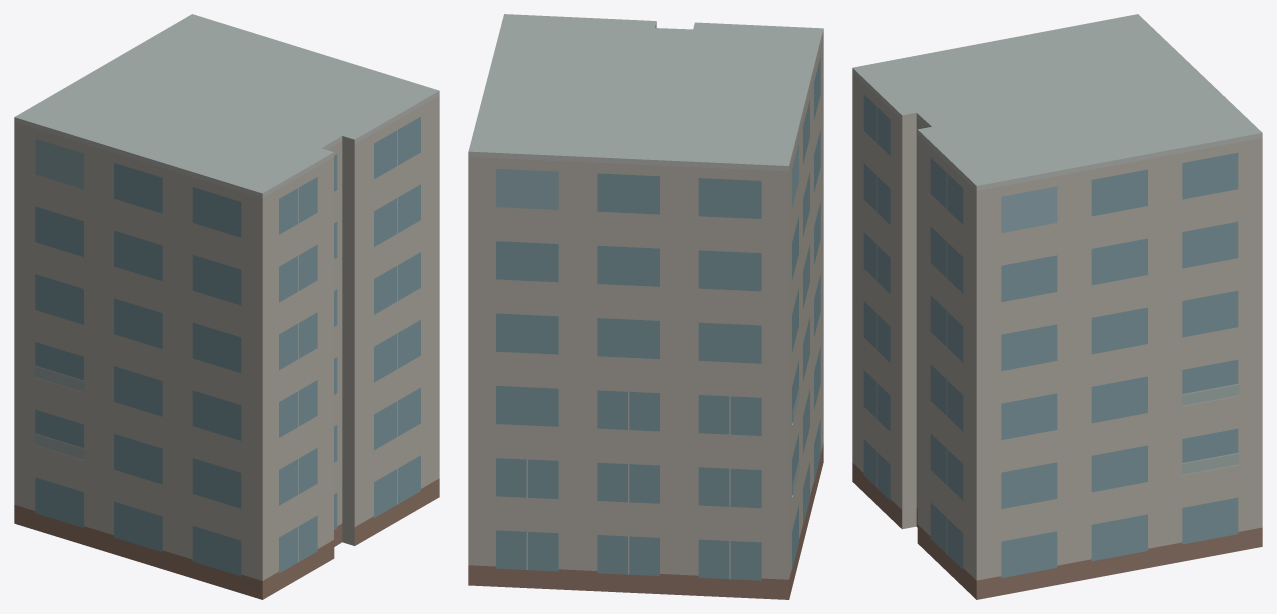
File: survey-upis-32731849.glb
The picture shows the model from 3 angles, left to right: view 1: azimuth 30°, elevation 25°; view 2: azimuth 150°, elevation 25°; view 3: azimuth 270°, elevation 25°; orthographic projection. The views are drawn at different scales.
Visible parts, largest first — view 1: survey-upis-32731849.tmp; view 2: survey-upis-32731849.tmp; view 3: survey-upis-32731849.tmp.
Part boxes in pixels (x1,y1,x2,y2): survey-upis-32731849.tmp: (14,14,439,599); survey-upis-32731849.tmp: (468,14,823,599); survey-upis-32731849.tmp: (852,14,1262,599).
Size of the model in its own units: 18.1 by 20.3 by 18.25.
